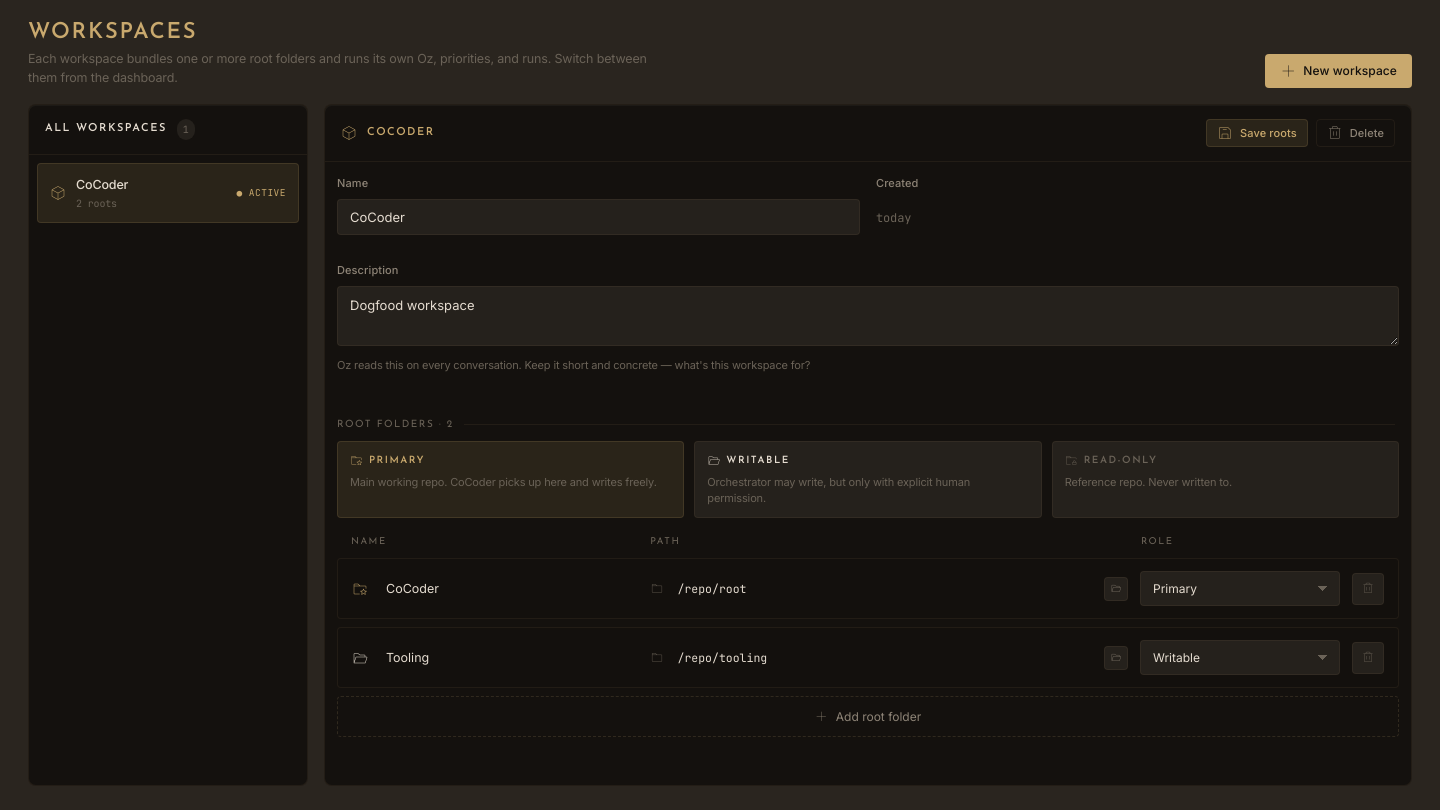
Test: WorkspacesScreen root picker › defaults new non-primary roots to read-only without changing saved writable roots
The image size is (1440, 810).
Step 1. Click the button "Add root folder" → (868, 717), box [337,696,1399,737]
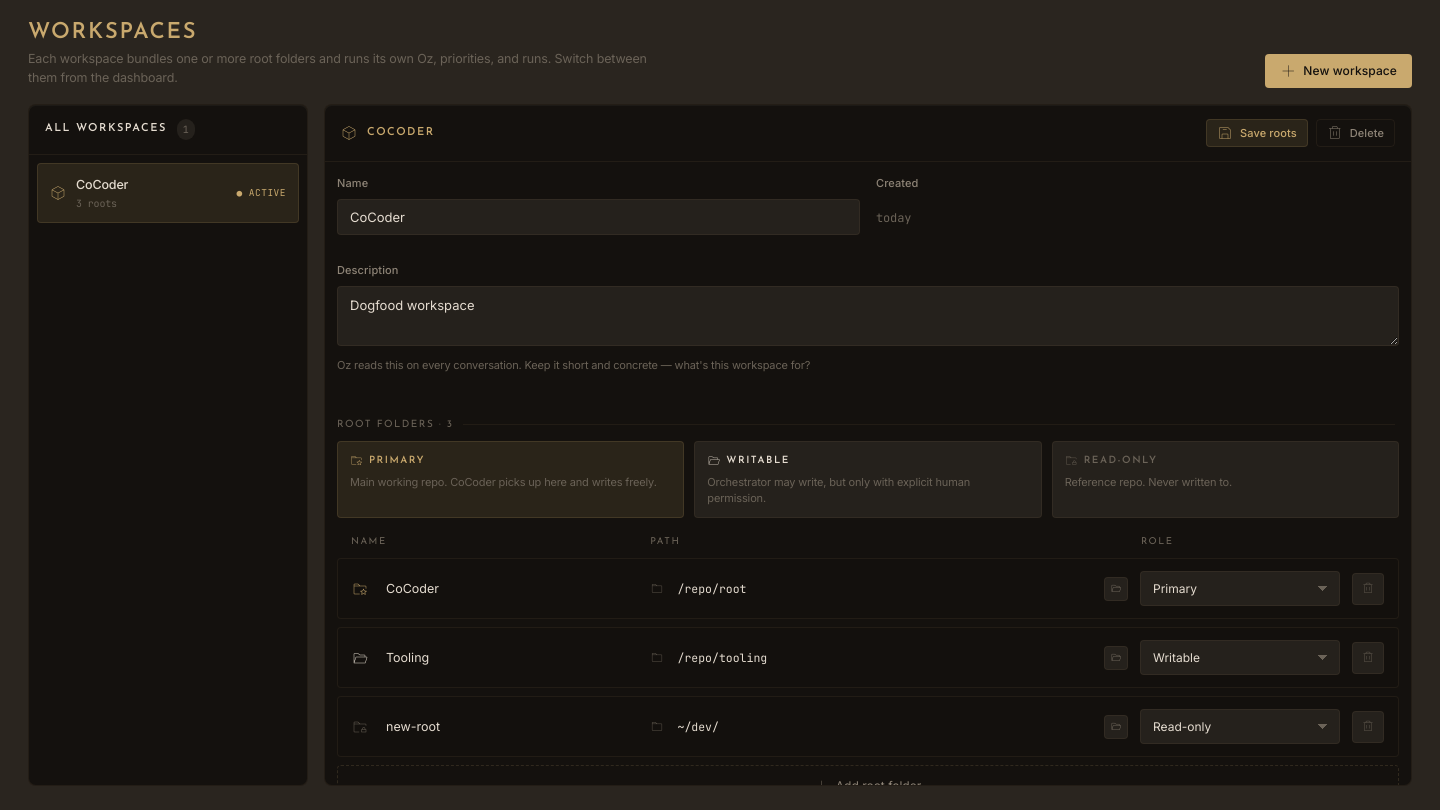
Expected: the 1st dropdown shows "Primary", [1140,571,1340,606]
Expected: the 3rd dropdown shows "Read-only", [1140,709,1340,744]
